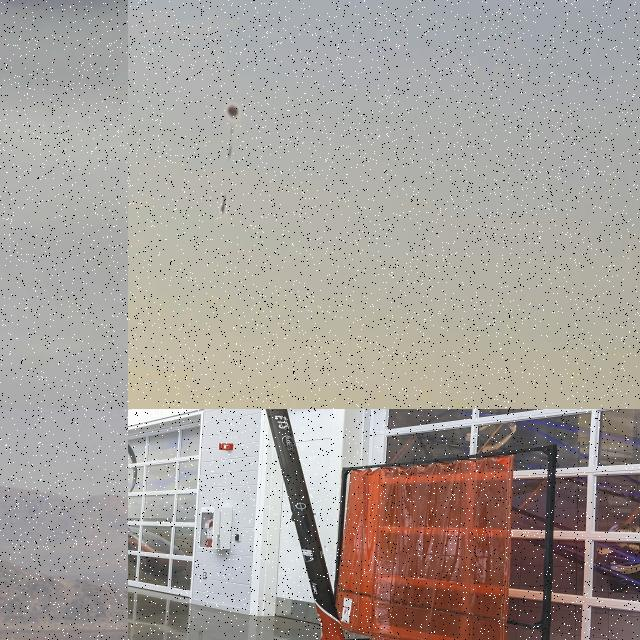Rocket: (265, 409, 346, 640), (220, 193, 228, 215)
